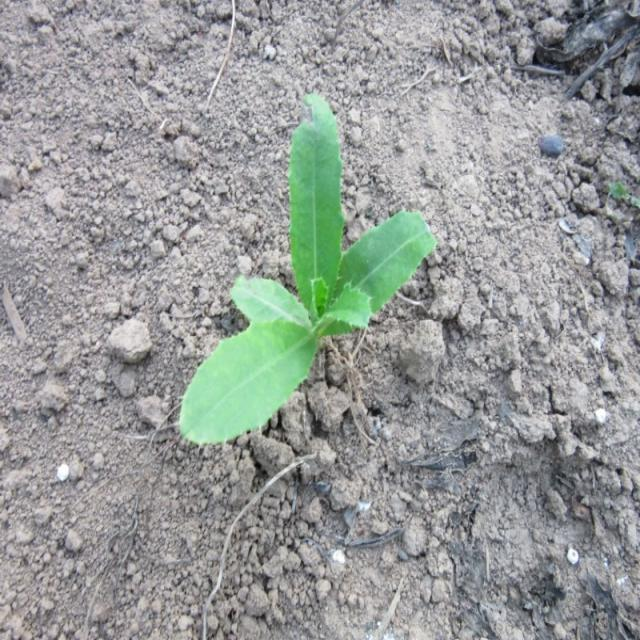cs: (178, 88, 438, 454)
